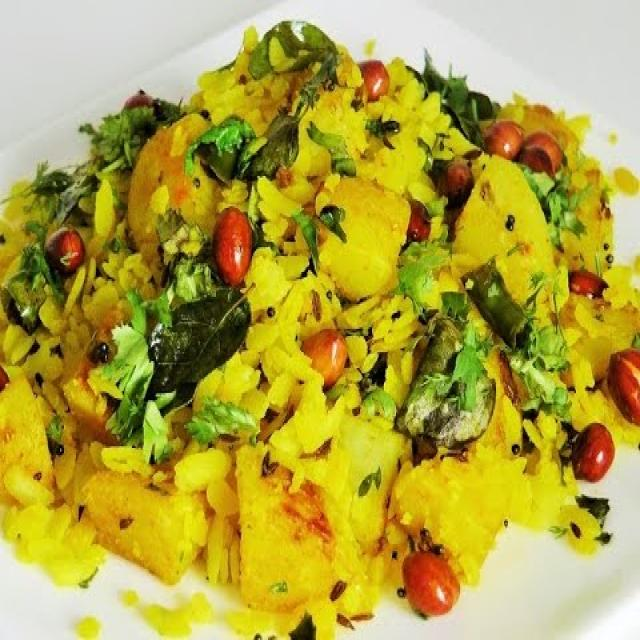POHA: (0, 20, 632, 635)
